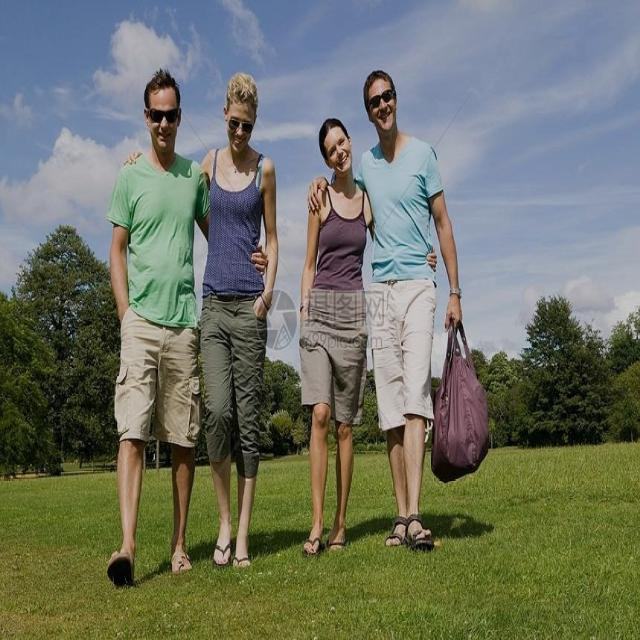non-fight: (358, 63, 465, 548), (105, 66, 205, 584), (185, 65, 278, 574), (296, 85, 374, 559)
